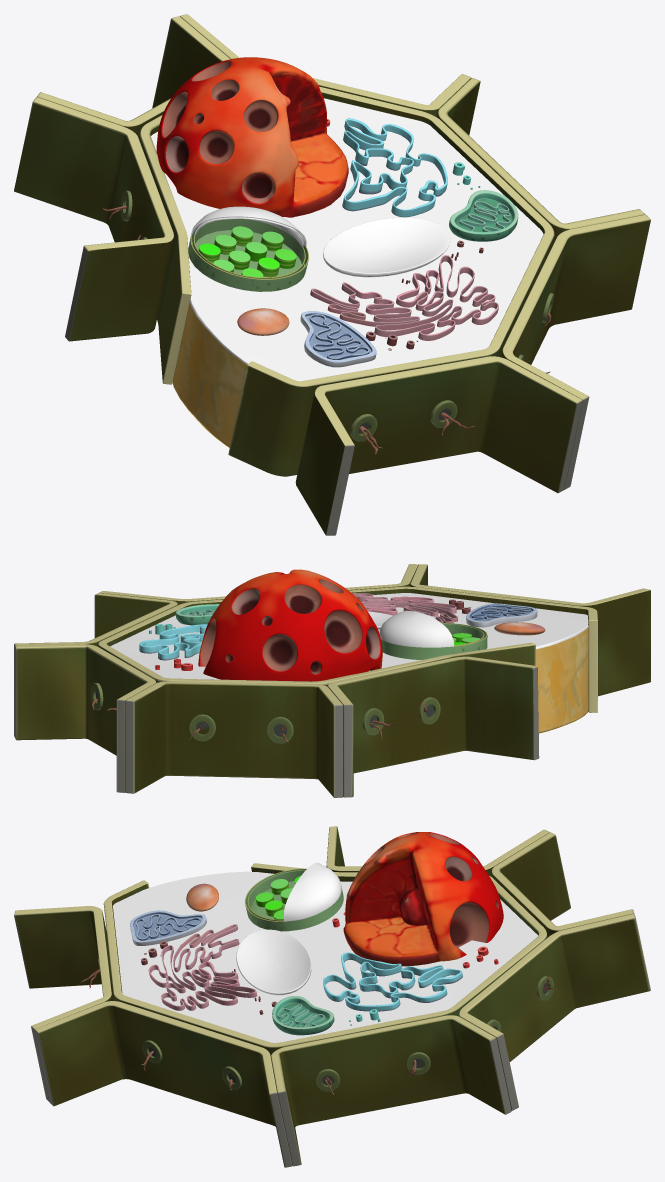
The model's file is plant_cell.gltf.
3 renders of one model, top to bottom at view 1: azimuth 30°, elevation 25°; view 2: azimuth 150°, elevation 25°; view 3: azimuth 270°, elevation 25°, orthographic. The views are drawn at different scales.
Visible parts, largest first — view 1: plant_cell_cross_section_a.2, plant_cell_cross_section_mask.3; view 2: plant_cell_cross_section_a.2, plant_cell_cross_section_mask.3; view 3: plant_cell_cross_section_a.2, plant_cell_cross_section_mask.3.
Part boxes in pixels (x1,y1,x2,y2): plant_cell_cross_section_a.2: [14, 14, 650, 535]; plant_cell_cross_section_mask.3: [151, 98, 543, 381]; plant_cell_cross_section_a.2: [14, 564, 650, 797]; plant_cell_cross_section_mask.3: [110, 593, 588, 679]; plant_cell_cross_section_a.2: [14, 826, 650, 1167]; plant_cell_cross_section_mask.3: [113, 862, 538, 1042].
Size of the model in its own units: 3.08 by 1.53 by 3.88.
Materials: 2 (1 with a texture image).
